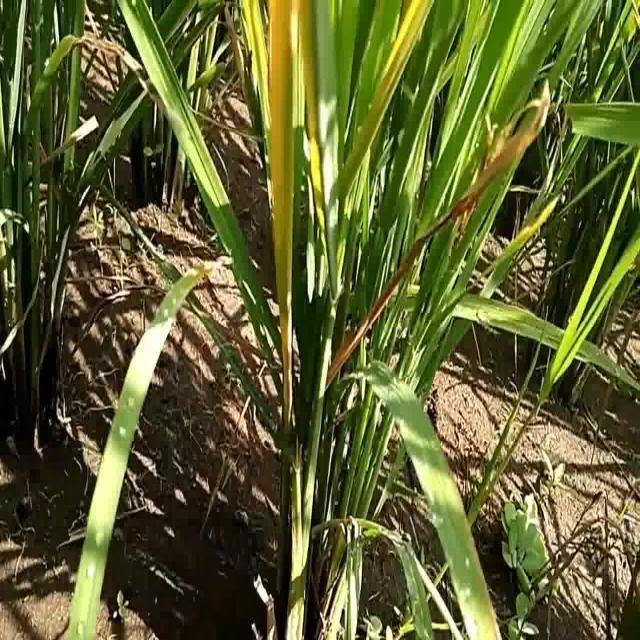Rice Tungro: (265, 2, 296, 425), (362, 2, 434, 147), (240, 3, 272, 126)
